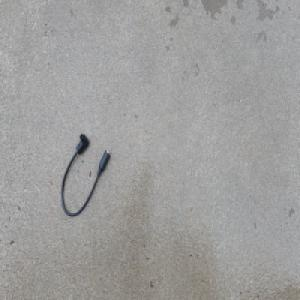Wire: (60, 131, 111, 218)
